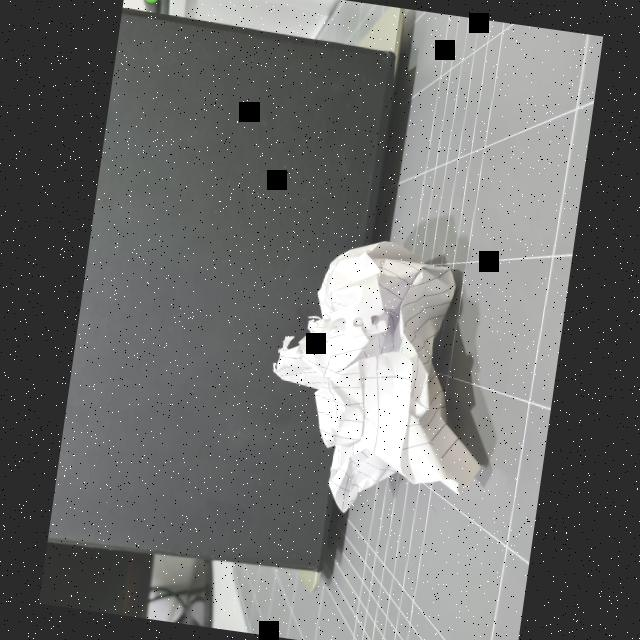scrap_paper: (256, 225, 498, 538)
